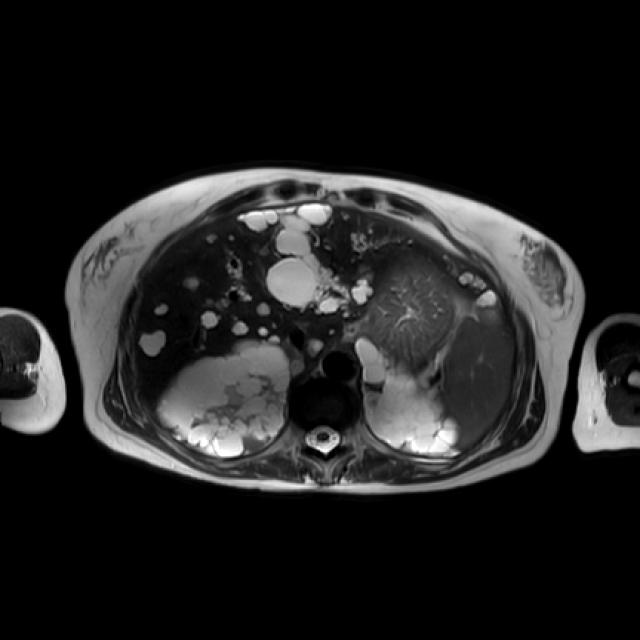sag: (160, 341, 291, 457)
sol: (358, 337, 459, 455)
